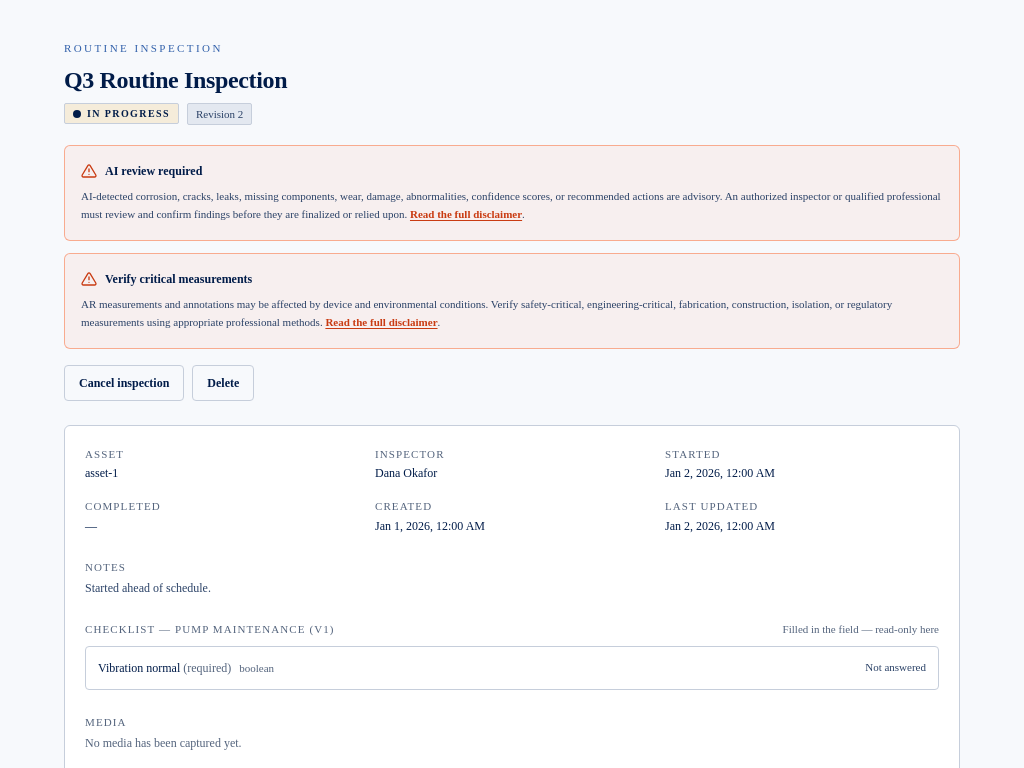
Scenario: inspection detail page › cancels the inspection when confirmed
Expected: the heading "Q3 Routine Inspection" is shown, [64,66,287,92]
Click the button "Cancel inspection": x=124, y=382 [64,364,184,400]
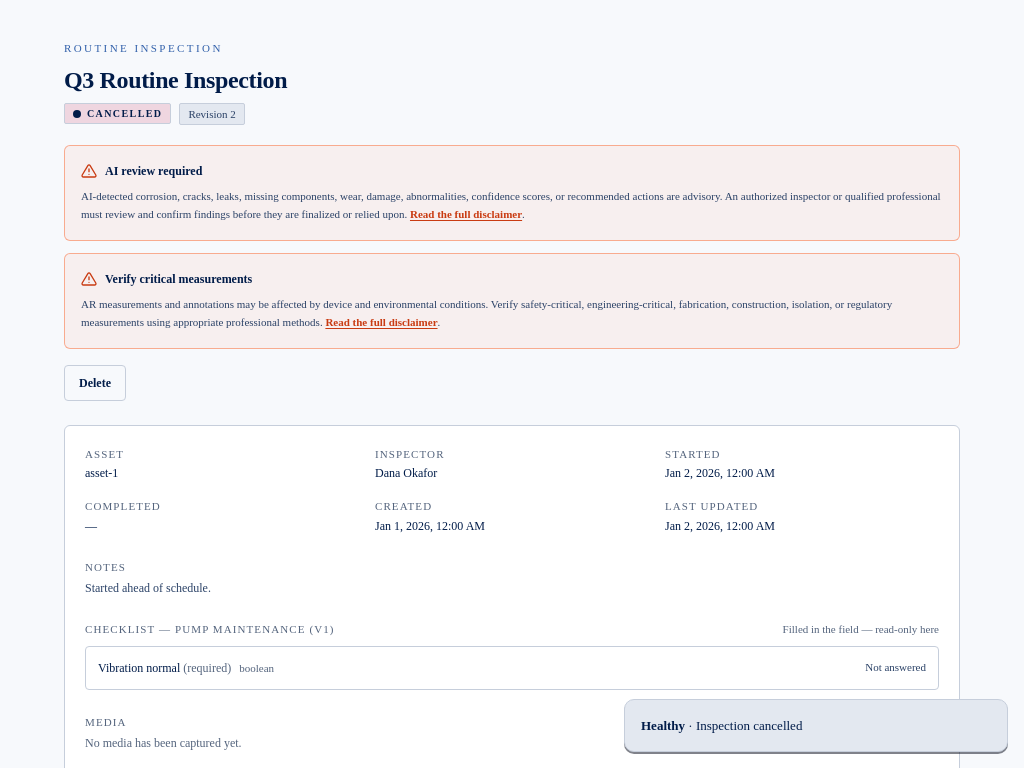
Result: the text "Cancelled" is shown at [64,103,171,124]
